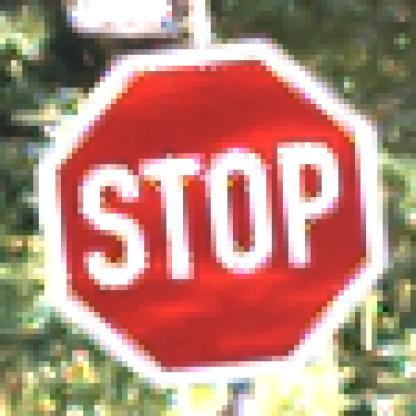Stop: (43, 51, 377, 381)
